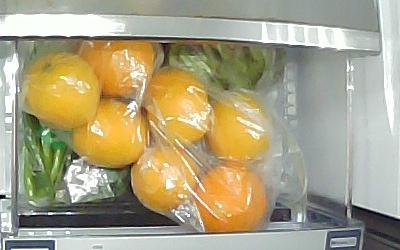orange_vinyl: (23, 50, 100, 128), (139, 65, 209, 145), (193, 159, 267, 231), (70, 97, 146, 167), (203, 88, 270, 163), (129, 143, 201, 212), (73, 39, 154, 97)
